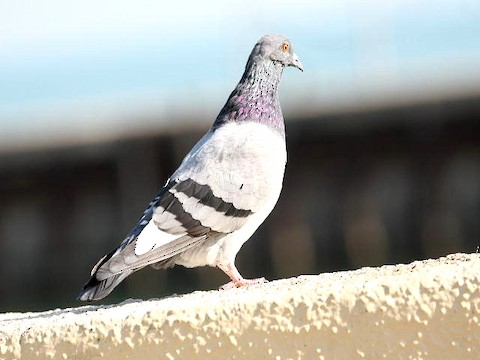pigeon: (75, 31, 306, 306)
